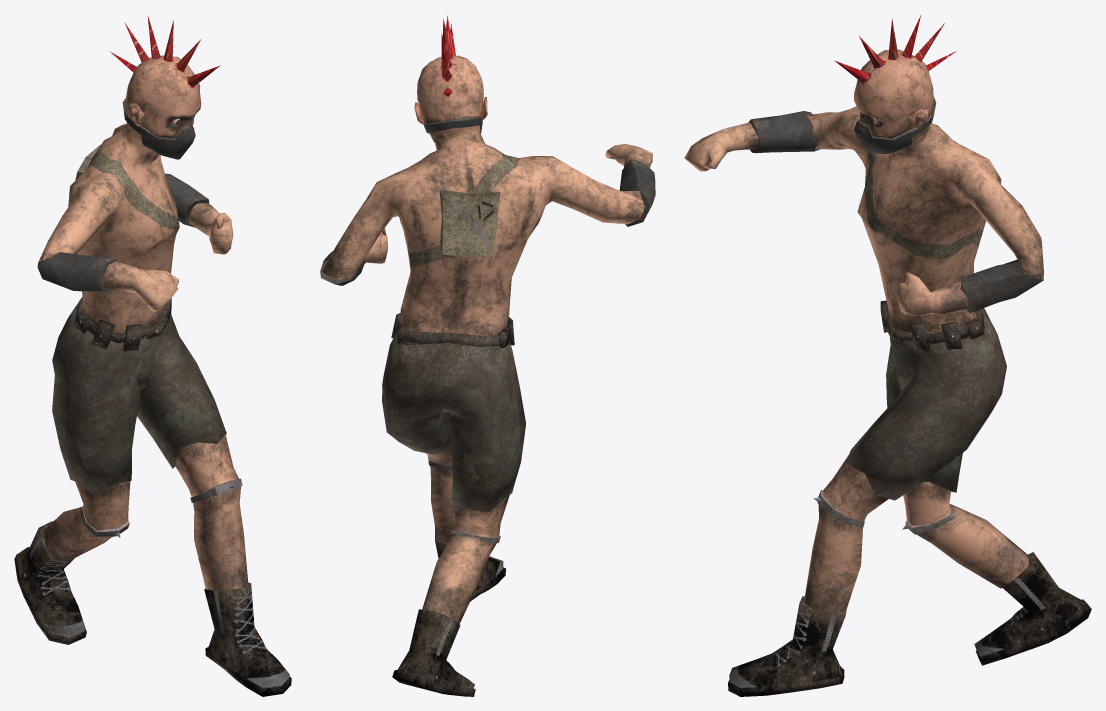
Rendered from Anim_ataque_d1_npc2.0020.obj.
The picture shows the model from 3 angles, left to right: view 1: azimuth 30°, elevation 25°; view 2: azimuth 150°, elevation 25°; view 3: azimuth 270°, elevation 25°; orthographic projection. The views are drawn at different scales.
Visible parts, largest first — view 1: polySurface1; view 2: polySurface1; view 3: polySurface1.
Part boxes in pixels (x1,y1,x2,y2): polySurface1: [14, 15, 291, 696]; polySurface1: [320, 15, 655, 696]; polySurface1: [684, 15, 1091, 696].
Bounding box in the file's own units: 3.91 × 9.69 × 5.32.
